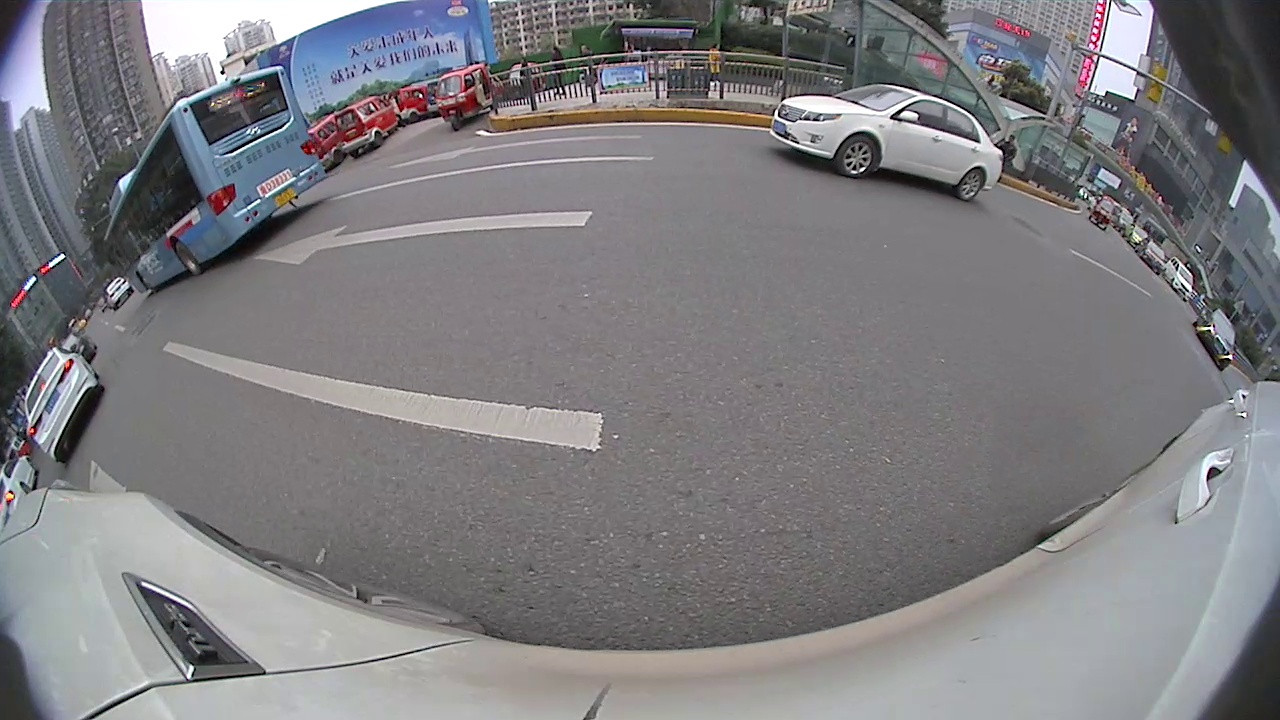bus: (105, 64, 323, 295)
car: (769, 82, 1005, 200), (23, 344, 103, 465), (1195, 307, 1238, 373), (1, 453, 38, 523), (1164, 255, 1195, 303), (58, 330, 98, 363), (1140, 237, 1168, 275), (103, 277, 134, 308)
front: (835, 132, 884, 177)
person: (1002, 130, 1017, 169)
rear: (171, 237, 209, 279), (952, 166, 987, 202)
rider: (435, 62, 513, 131), (331, 94, 402, 163), (394, 81, 434, 121), (303, 114, 335, 158)
